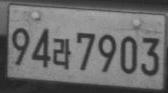0: (119, 35, 137, 74)
3: (141, 37, 160, 76)
4: (30, 28, 51, 67)
7: (75, 31, 95, 71)
9: (10, 26, 30, 65), (97, 33, 116, 71)
라: (52, 37, 71, 70)
